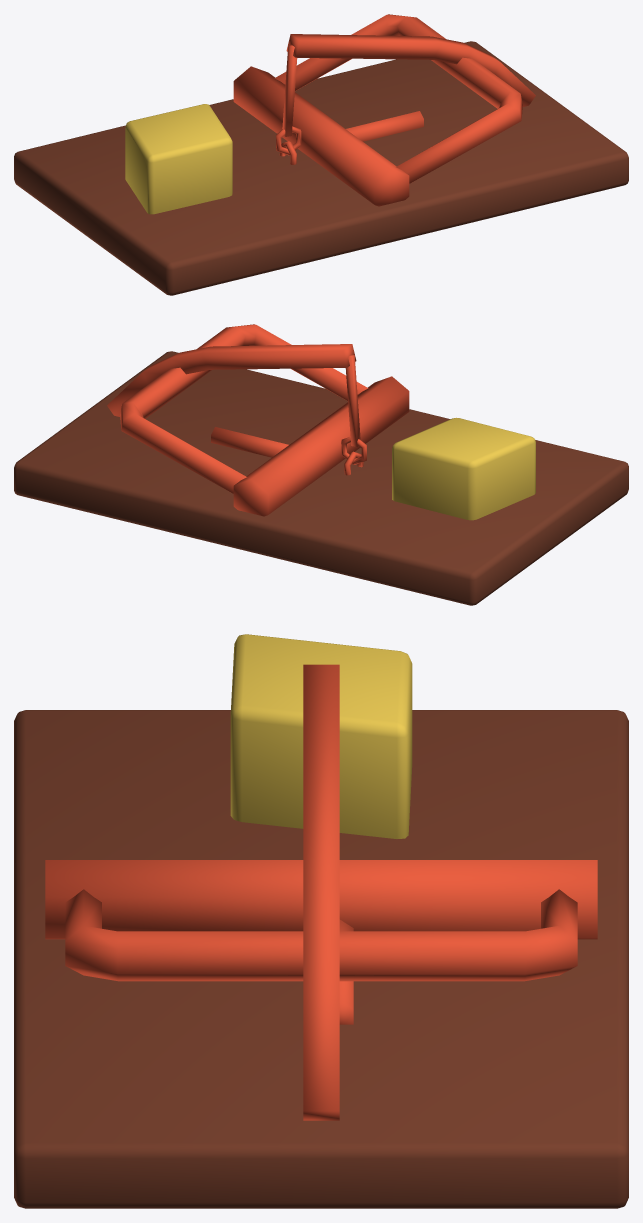
The model's file is RatTrap.fbx.
3 views of the same model, one above another, from view 1: azimuth 30°, elevation 25°; view 2: azimuth 150°, elevation 25°; view 3: azimuth 270°, elevation 25° (orthographic). The views are drawn at different scales.
Parts seen in each view (by area): view 1: Rattrap; view 2: Rattrap; view 3: Rattrap.
Part boxes in pixels (x1,y1,x2,y2): Rattrap: (14,14,628,295); Rattrap: (14,324,628,605); Rattrap: (14,634,628,1208).
Bounding box in the file's own units: 32.61 × 10.39 × 19.15.
